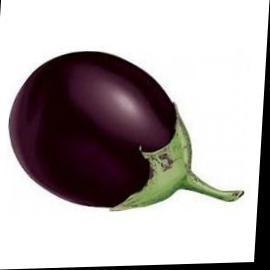eggplant: (6, 47, 256, 222)
